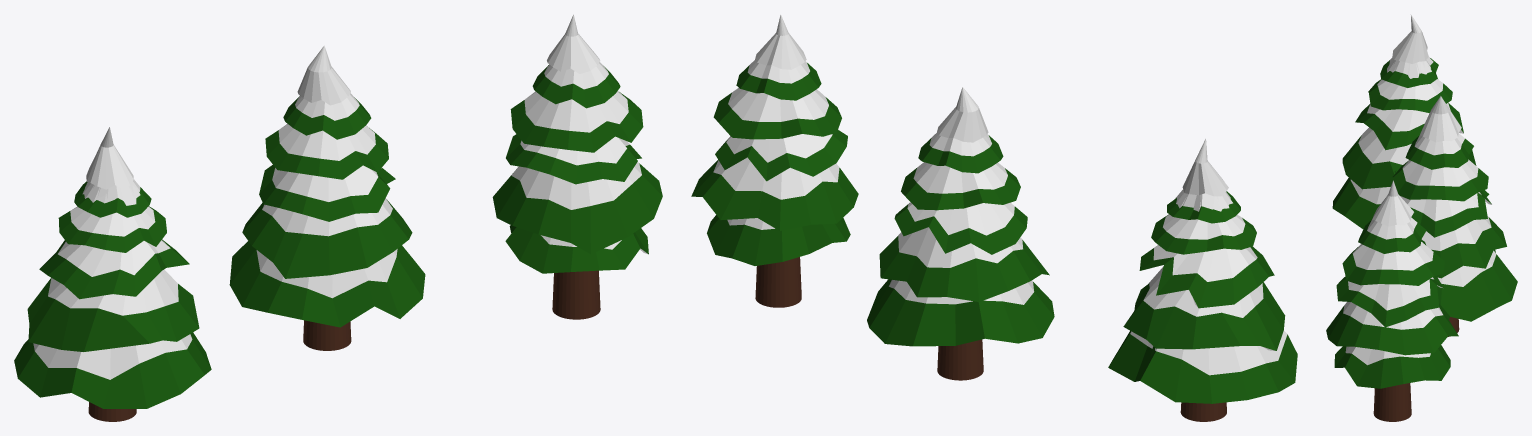
File: drzewa.fbx
3 renders of one model, left to right at view 1: azimuth 30°, elevation 25°; view 2: azimuth 150°, elevation 25°; view 3: azimuth 270°, elevation 25°, orthographic. The views are drawn at different scales.
Parts seen in each view (by area): view 1: Cylinder, Cylinder.001, Cylinder.002; view 2: Cylinder, Cylinder.001, Cylinder.002; view 3: Cylinder.002, Cylinder, Cylinder.001.
Part boxes in pixels (x1,y1,x2,y2): Cylinder: (229, 45, 425, 350); Cylinder.001: (14, 127, 211, 421); Cylinder.002: (492, 14, 662, 319); Cylinder: (867, 87, 1054, 380); Cylinder.001: (1108, 138, 1297, 421); Cylinder.002: (691, 14, 858, 307); Cylinder.002: (1326, 180, 1458, 421); Cylinder: (1393, 96, 1517, 336); Cylinder.001: (1332, 15, 1489, 229).
Size of the model in its own units: 397 by 183 by 136.
